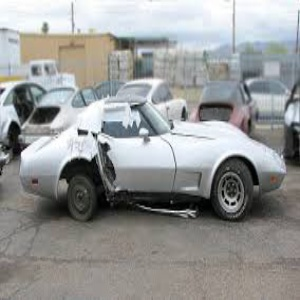door: (96, 143, 144, 195)
